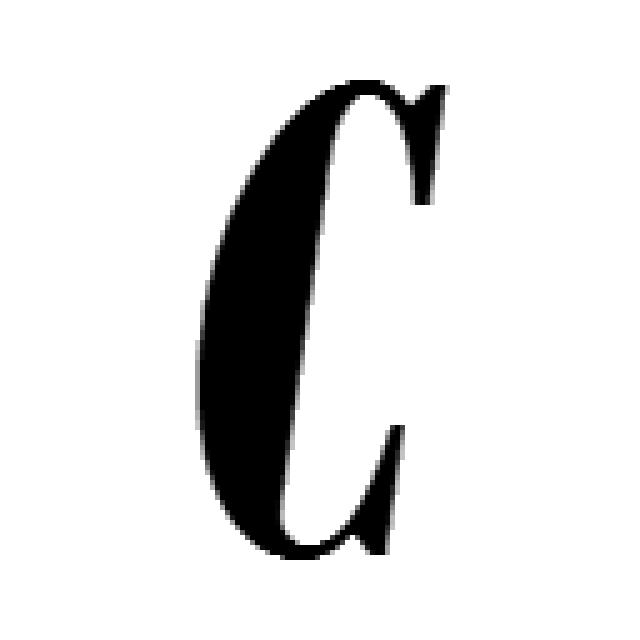C: (195, 80, 445, 565)
